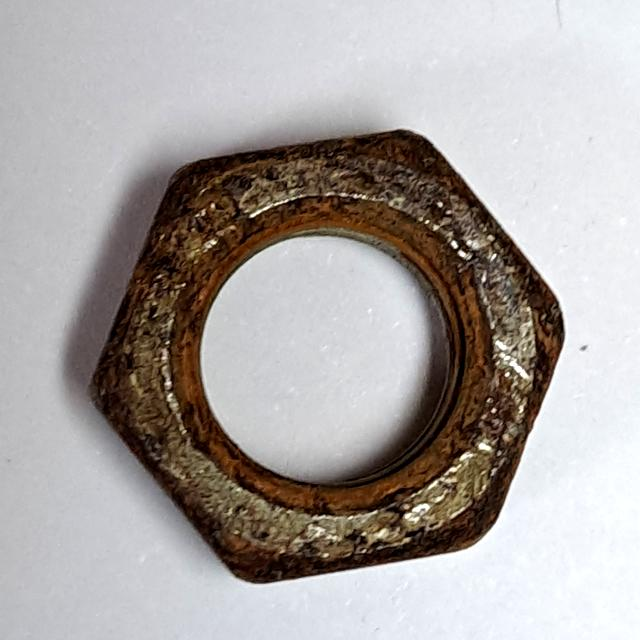Rust: (77, 113, 577, 598)
